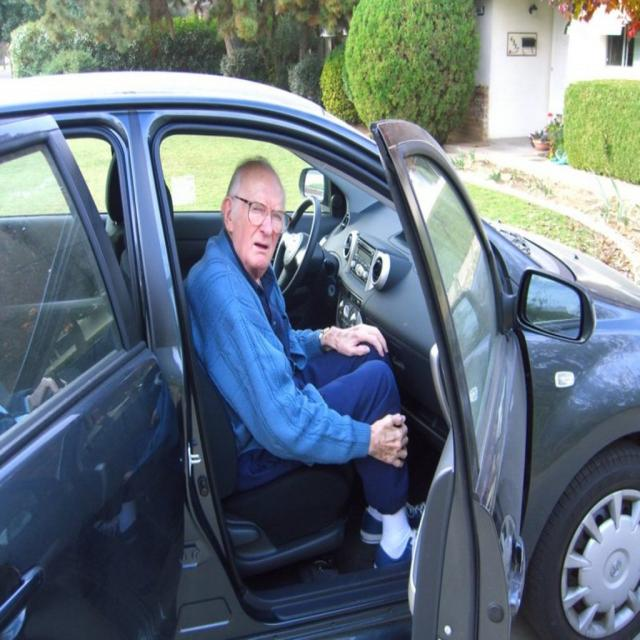other: (26, 73, 590, 639)
